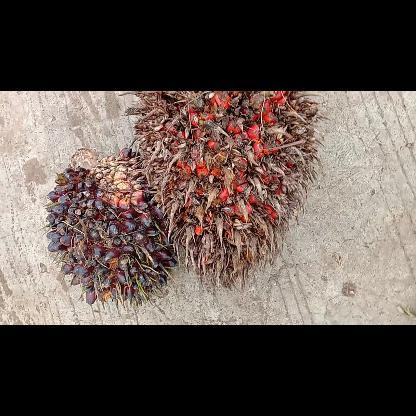TBS mentah: (42, 147, 176, 306)
Terlalu masak: (124, 91, 324, 289)
